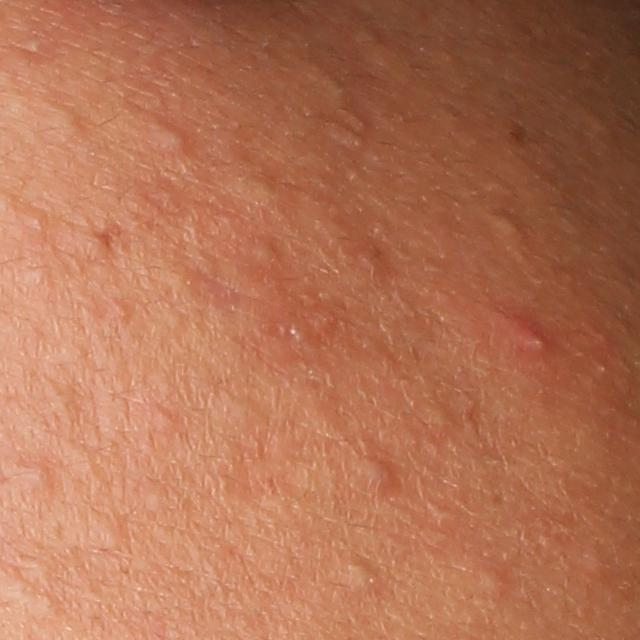comedo: (223, 169, 276, 210), (40, 100, 86, 137), (418, 392, 459, 430), (343, 556, 379, 589), (474, 564, 506, 600), (488, 211, 525, 242), (22, 261, 55, 293), (26, 459, 57, 490), (581, 547, 610, 575), (148, 406, 177, 433), (112, 303, 138, 323), (25, 209, 46, 231)
papule: (493, 308, 554, 363), (350, 448, 400, 490)
